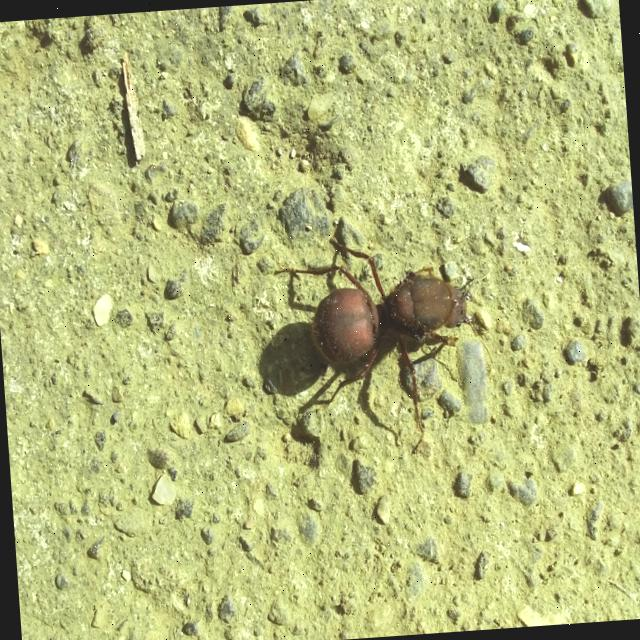Alive-Female-Dealate: (270, 227, 508, 462)
